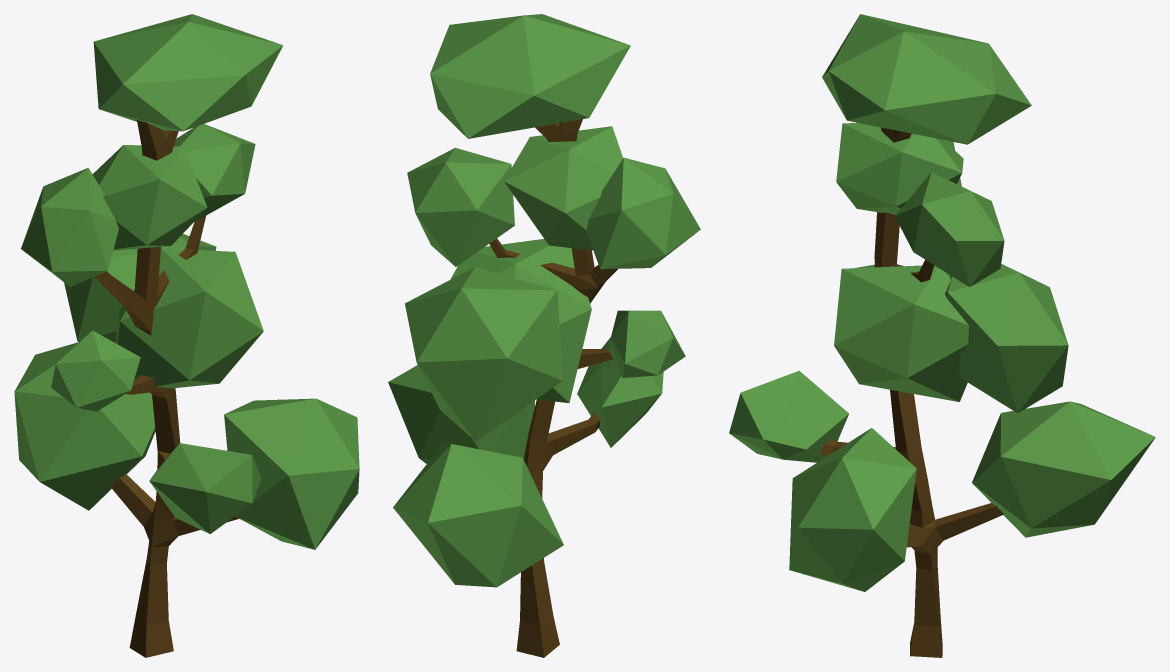
File: Tree-5.fbx
3 renders of one model, left to right at view 1: azimuth 30°, elevation 25°; view 2: azimuth 150°, elevation 25°; view 3: azimuth 270°, elevation 25°, orthographic. The views are drawn at different scales.
Visible parts, largest first — view 1: Tree-5; view 2: Tree-5; view 3: Tree-5.
Boxes of the visible parts, x1,y1,x2,y2 form: Tree-5: (14,14,359,657); Tree-5: (388,14,700,657); Tree-5: (729,14,1155,657).
Size of the model in its own units: 10.42 by 20.13 by 12.32.
